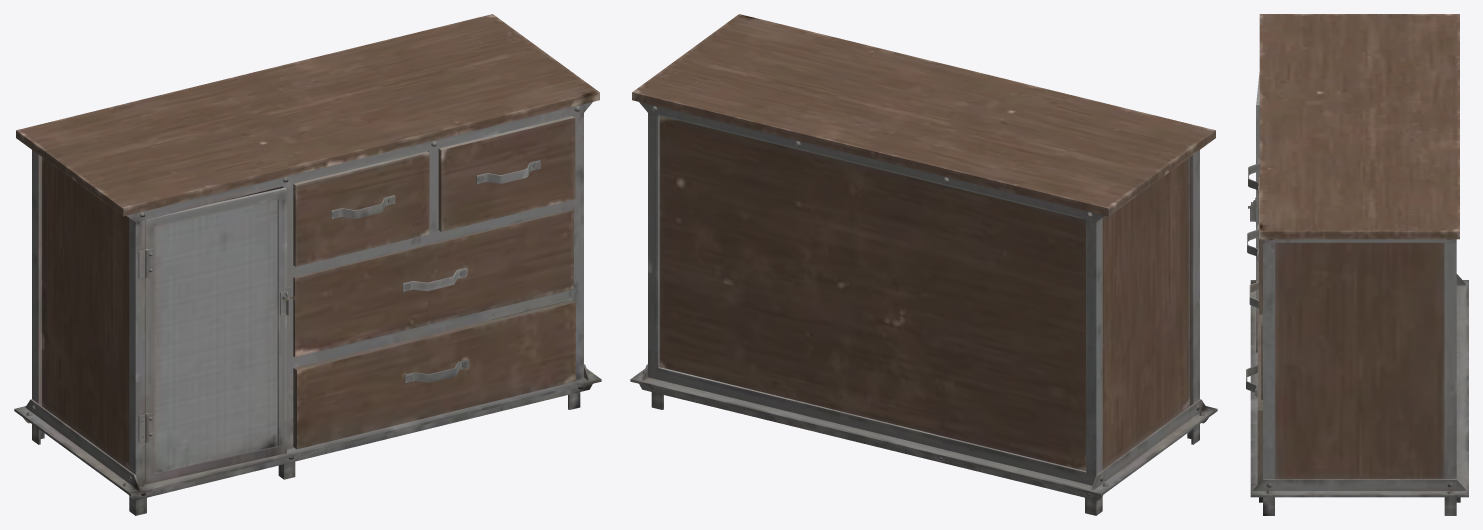
The model's file is mesa.glb.
3 renders of one model, left to right at view 1: azimuth 30°, elevation 25°; view 2: azimuth 150°, elevation 25°; view 3: azimuth 270°, elevation 25°, orthographic. The views are drawn at different scales.
Visible parts, largest first — view 1: WoodenTable_03_body, WoodenTable_03_door, WoodenTable_03_drawer04, WoodenTable_03_drawer03, WoodenTable_03_drawer02, WoodenTable_03_drawer01; view 2: WoodenTable_03_body; view 3: WoodenTable_03_body, WoodenTable_03_drawer04, WoodenTable_03_door, WoodenTable_03_drawer02, WoodenTable_03_drawer03.
Boxes of the visible parts, x1,y1,x2,y2 form: WoodenTable_03_body: [14, 14, 601, 515]; WoodenTable_03_door: [145, 187, 294, 484]; WoodenTable_03_drawer04: [293, 300, 575, 449]; WoodenTable_03_drawer03: [293, 209, 573, 357]; WoodenTable_03_drawer02: [438, 116, 575, 231]; WoodenTable_03_drawer01: [293, 151, 429, 266]; WoodenTable_03_body: [630, 14, 1217, 515]; WoodenTable_03_body: [1250, 14, 1468, 515]; WoodenTable_03_drawer04: [1246, 289, 1262, 484]; WoodenTable_03_door: [1248, 72, 1259, 352]; WoodenTable_03_drawer02: [1247, 177, 1262, 314]; WoodenTable_03_drawer03: [1249, 281, 1262, 399].
Bounding box in the file's own units: 1.33 × 0.83 × 0.5739.
1 material, 1 textured.
